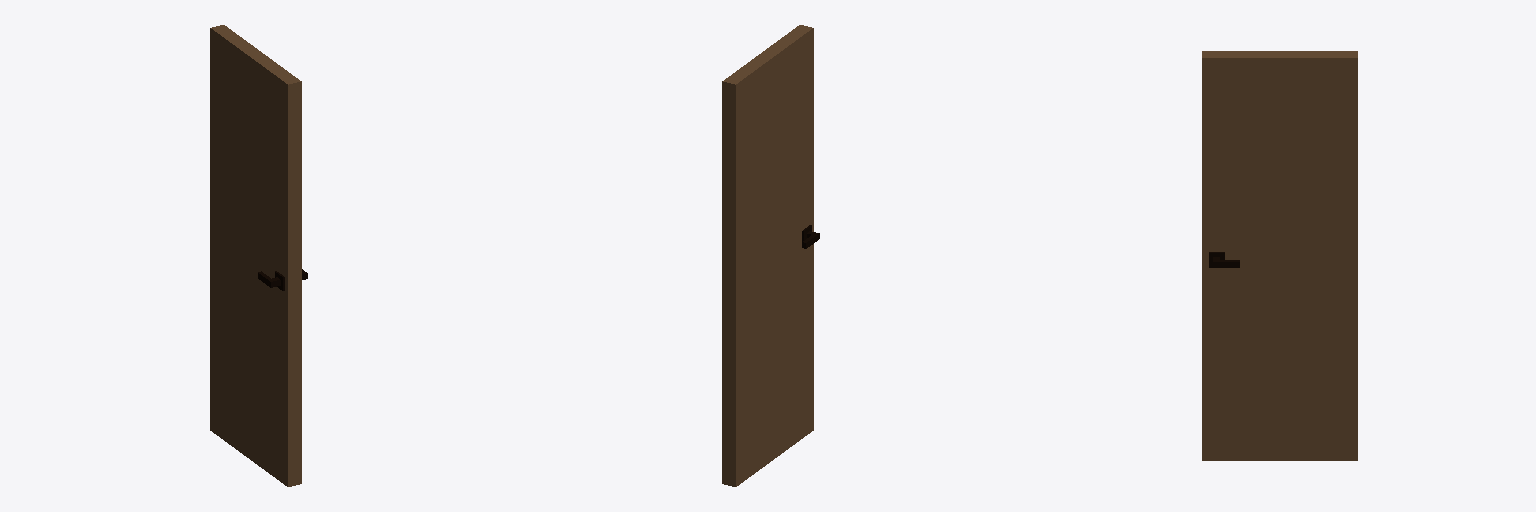
File: door701_brown.obj
3 renders of one model, left to right at view 1: azimuth 30°, elevation 25°; view 2: azimuth 150°, elevation 25°; view 3: azimuth 270°, elevation 25°, orthographic.
Parts seen in each view (by area): view 1: Cube; view 2: Cube; view 3: Cube.
Boxes of the visible parts, x1=… form: Cube: x1=210, y1=25, x2=307, y2=486; Cube: x1=722, y1=25, x2=819, y2=486; Cube: x1=1202, y1=51, x2=1357, y2=460.
Bounding box in the file's own units: 0.1899 × 2 × 0.6997.